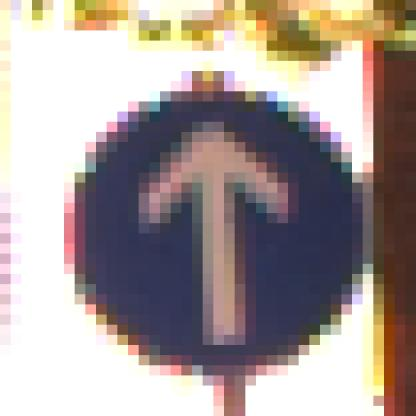AheadOnly: (65, 62, 364, 356)
